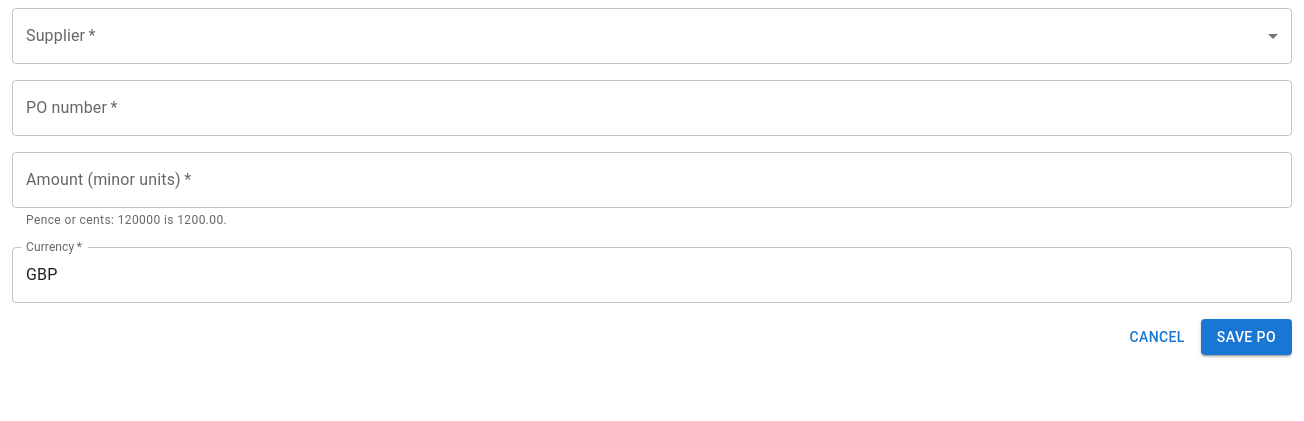
Test: US3 add-PO form › us3: refuses a PO with no supplier
Click the button "Save PO": (1246, 337) [1201, 319, 1292, 355]
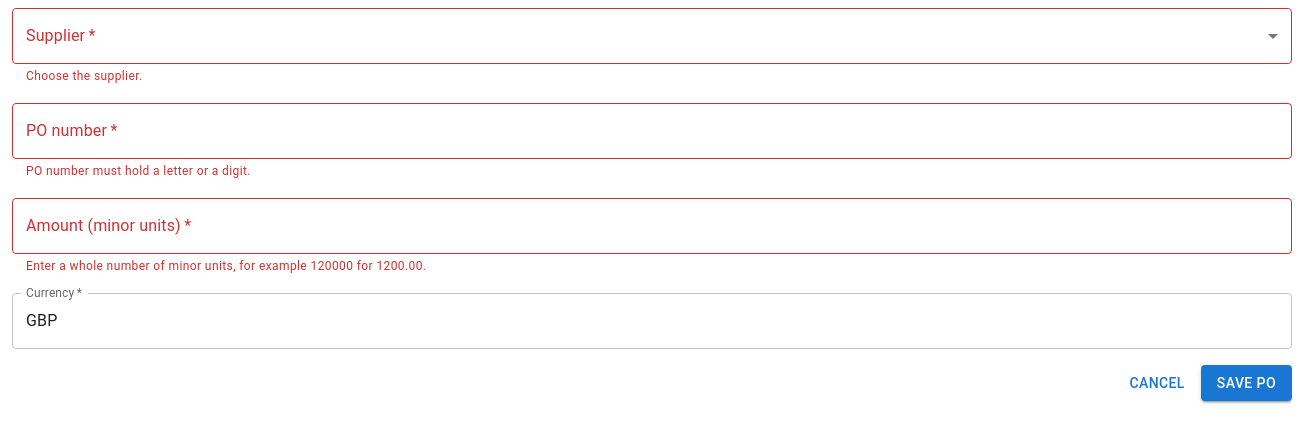
Expected: the text "Choose the supplier." is shown, [26, 69, 142, 83]
